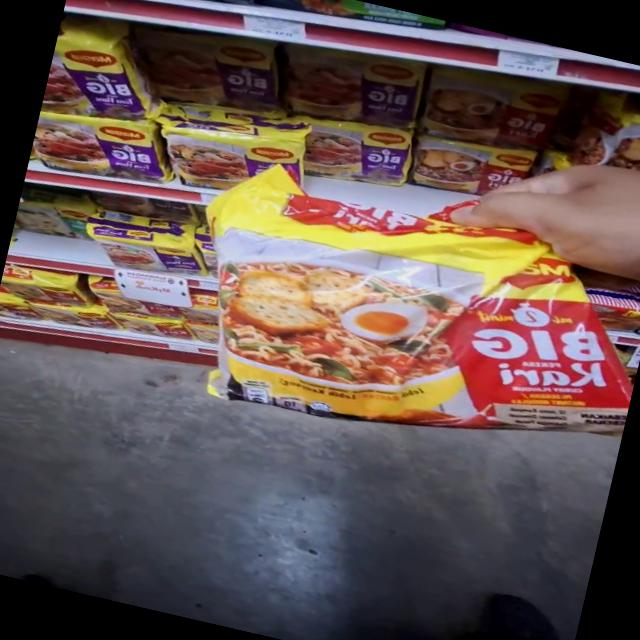Maggi: (167, 132, 640, 473)
